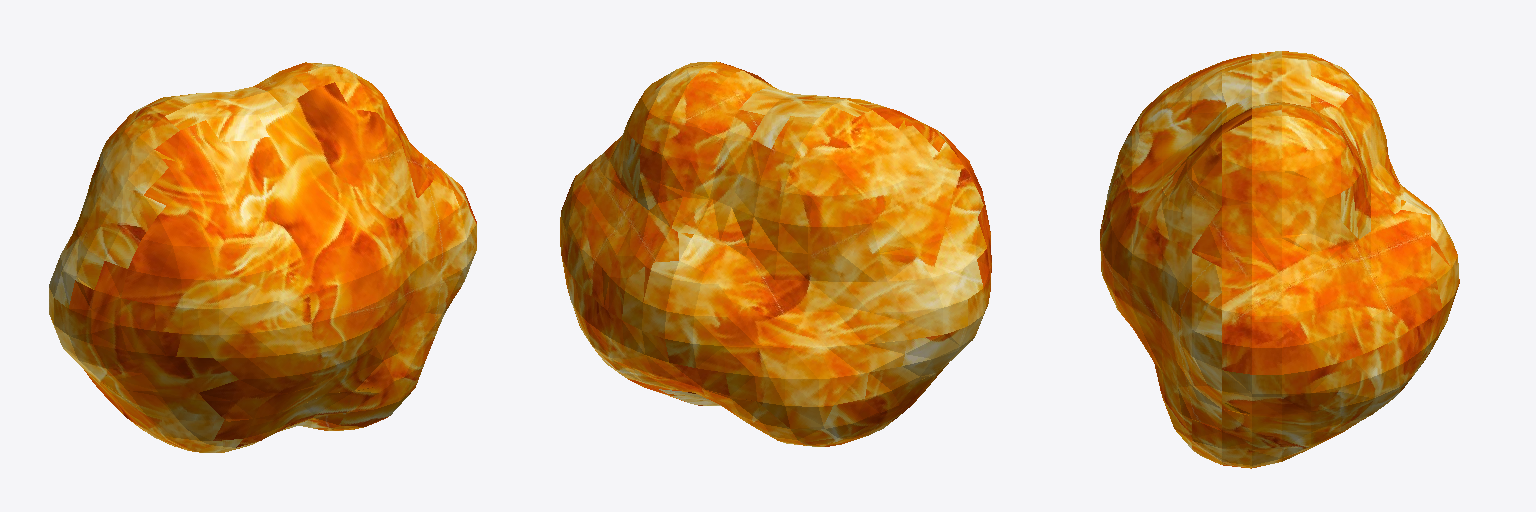
The picture shows the model from 3 angles: view 1: azimuth 30°, elevation 25°; view 2: azimuth 150°, elevation 25°; view 3: azimuth 270°, elevation 25°; orthographic projection.
Visible parts, largest first — view 1: Mball.000_Mesh.001; view 2: Mball.000_Mesh.001; view 3: Mball.000_Mesh.001.
Boxes of the visible parts, <box> form: Mball.000_Mesh.001: <box>49,62,476,452</box>; Mball.000_Mesh.001: <box>560,61,991,446</box>; Mball.000_Mesh.001: <box>1100,51,1459,468</box>.
Bounding box in the file's own units: 2.01 × 1.65 × 1.56.
Materials: 2 (1 with a texture image).